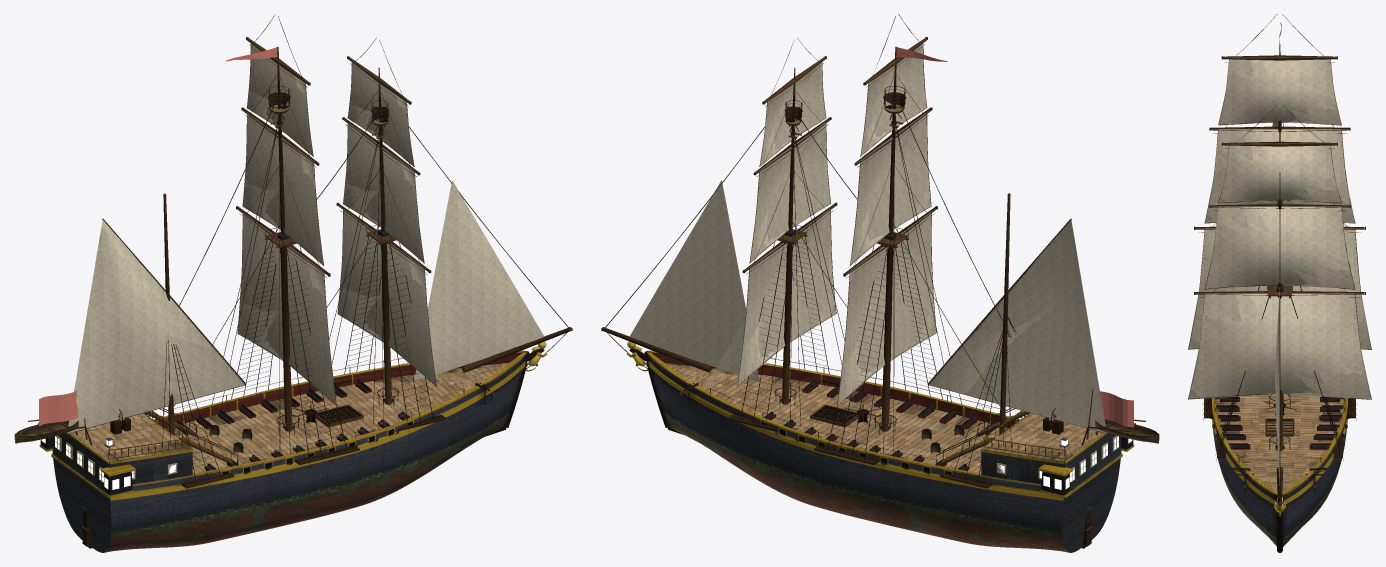
Rendered from fleut.glb.
The picture shows the model from 3 angles, left to right: view 1: azimuth 30°, elevation 25°; view 2: azimuth 150°, elevation 25°; view 3: azimuth 270°, elevation 25°; orthographic projection. The views are drawn at different scales.
Visible parts, largest first — view 1: LOD0_Body, LOD0_Wood, LOD2_m1_SquareSail, LOD0_m2_AftSail, LOD2_m0_SquareSail, LOD2_Body, LOD0_Jib, LOD2_Wood, LOD1_Wood, LOD1_m2_AftSail, LOD0_m1_SquareSail, LOD1_m1_SquareSail (+10 smaller); view 2: LOD0_Body, LOD0_Wood, LOD2_m1_SquareSail, LOD2_m2_AftSail, LOD2_m0_SquareSail, LOD2_Body, LOD2_Jib, LOD2_Wood, LOD1_Wood, LOD0_m1_SquareSail, LOD1_m1_SquareSail, LOD0_m2_AftSail (+10 smaller); view 3: LOD0_m0_SquareSail, LOD0_m1_SquareSail, LOD0_Body, LOD2_Body, LOD0_Wood, LOD2_m0_SquareSail, LOD1_m0_SquareSail, LOD1_m1_SquareSail, LOD2_m1_SquareSail, LOD2_m0_SquareYards, LOD2_m1_SquareYards, LOD0_m0_SquareYards (+7 smaller).
Part boxes in pixels (x1=…): LOD0_Body: x1=53, y1=92, x2=547, y2=552; LOD0_Wood: x1=14, y1=47, x2=572, y2=552; LOD2_m1_SquareSail: x1=238, y1=46, x2=335, y2=400; LOD0_m2_AftSail: x1=67, y1=220, x2=244, y2=433; LOD2_m0_SquareSail: x1=338, y1=64, x2=434, y2=382; LOD2_Body: x1=81, y1=352, x2=526, y2=550; LOD0_Jib: x1=414, y1=180, x2=521, y2=381; LOD2_Wood: x1=59, y1=116, x2=567, y2=542; LOD1_Wood: x1=54, y1=54, x2=569, y2=552; LOD1_m2_AftSail: x1=68, y1=223, x2=244, y2=432; LOD0_m1_SquareSail: x1=237, y1=44, x2=335, y2=401; LOD1_m1_SquareSail: x1=239, y1=77, x2=336, y2=404; LOD0_Body: x1=626, y1=92, x2=1102, y2=552; LOD0_Wood: x1=601, y1=46, x2=1159, y2=552; LOD2_m1_SquareSail: x1=838, y1=57, x2=934, y2=396; LOD2_m2_AftSail: x1=929, y1=220, x2=1105, y2=432; LOD2_m0_SquareSail: x1=738, y1=73, x2=834, y2=375; LOD2_Body: x1=647, y1=352, x2=1105, y2=550; LOD2_Jib: x1=629, y1=180, x2=758, y2=379; LOD2_Wood: x1=604, y1=116, x2=1114, y2=542; LOD1_Wood: x1=604, y1=46, x2=1119, y2=552; LOD0_m1_SquareSail: x1=838, y1=44, x2=935, y2=404; LOD1_m1_SquareSail: x1=839, y1=57, x2=936, y2=403; LOD0_m2_AftSail: x1=929, y1=230, x2=1106, y2=433; LOD0_m0_SquareSail: x1=1188, y1=145, x2=1361, y2=398; LOD0_m1_SquareSail: x1=1188, y1=59, x2=1362, y2=348; LOD0_Body: x1=1202, y1=394, x2=1356, y2=546; LOD2_Body: x1=1215, y1=394, x2=1344, y2=546; LOD0_Wood: x1=1204, y1=44, x2=1355, y2=552; LOD2_m0_SquareSail: x1=1188, y1=145, x2=1371, y2=399; LOD1_m0_SquareSail: x1=1194, y1=145, x2=1363, y2=395; LOD1_m1_SquareSail: x1=1195, y1=59, x2=1363, y2=320; LOD2_m1_SquareSail: x1=1189, y1=59, x2=1371, y2=349; LOD2_m0_SquareYards: x1=1195, y1=142, x2=1364, y2=295; LOD2_m1_SquareYards: x1=1195, y1=56, x2=1364, y2=229; LOD0_m0_SquareYards: x1=1188, y1=104, x2=1371, y2=399.
Size of the model in its own units: 48.17 by 41.39 by 14.88.
Materials: 5 (3 with a texture image).
